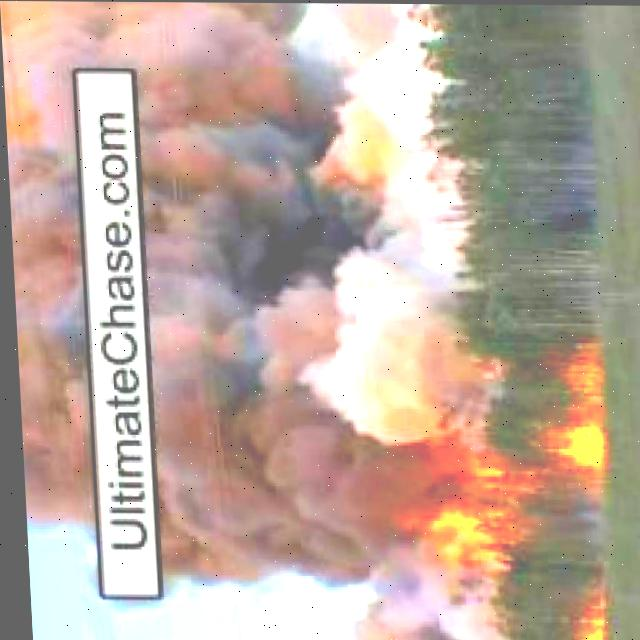Fire: (385, 505, 490, 563), (529, 419, 597, 475), (566, 353, 599, 391), (575, 617, 594, 640)
Smoke: (126, 1, 447, 604), (0, 0, 91, 541)
